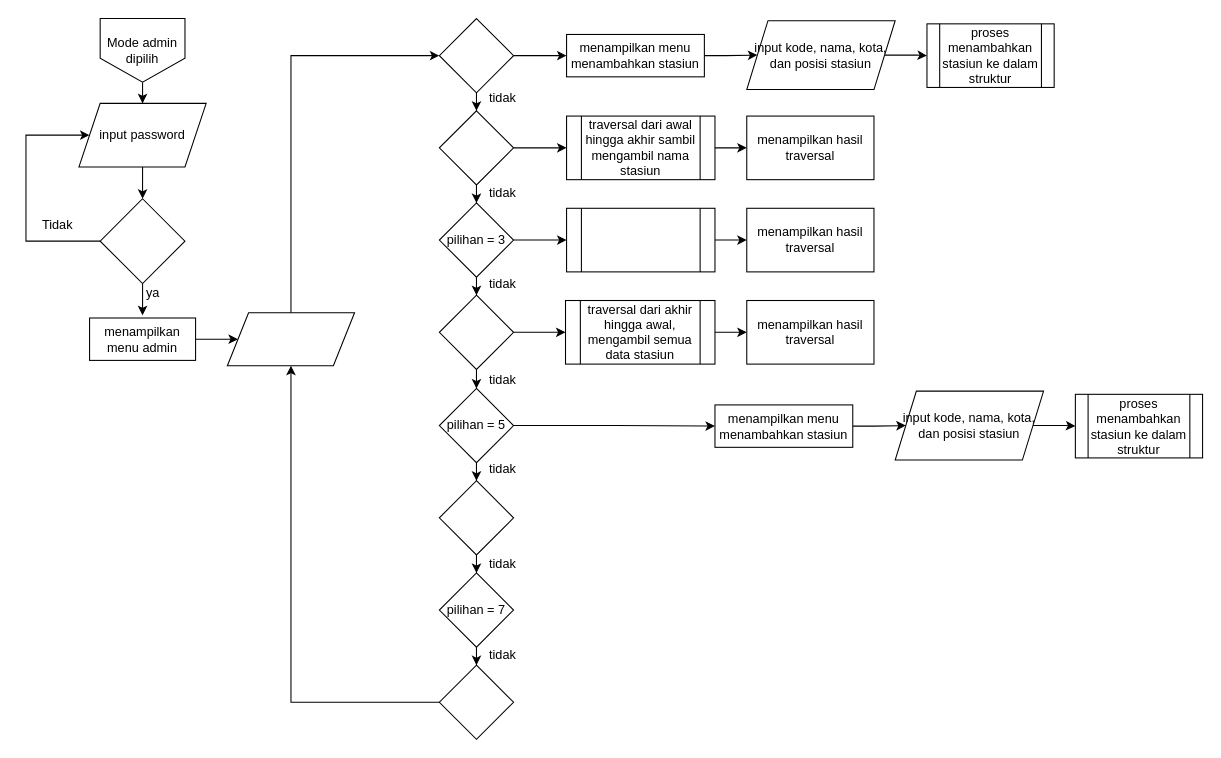
Some shapes in this 1221 by 758 pixel diagram are drawn without their labels. Each missing label, with the centre of its shape:
"input pilihan menu" belongs at pixel 290 339.
"password benar?" belongs at pixel 142 241.
"pilihan = 1" belongs at pixel 476 55.
"pilihan = 2" belongs at pixel 476 147.
"pilihan = 4" belongs at pixel 476 331.
"pilihan = 6" belongs at pixel 476 517.
"pilihan = 8" belongs at pixel 476 701.
"traversal dari akhir hingga awal sambil mengambil nama stasiun" belongs at pixel 640 239.
